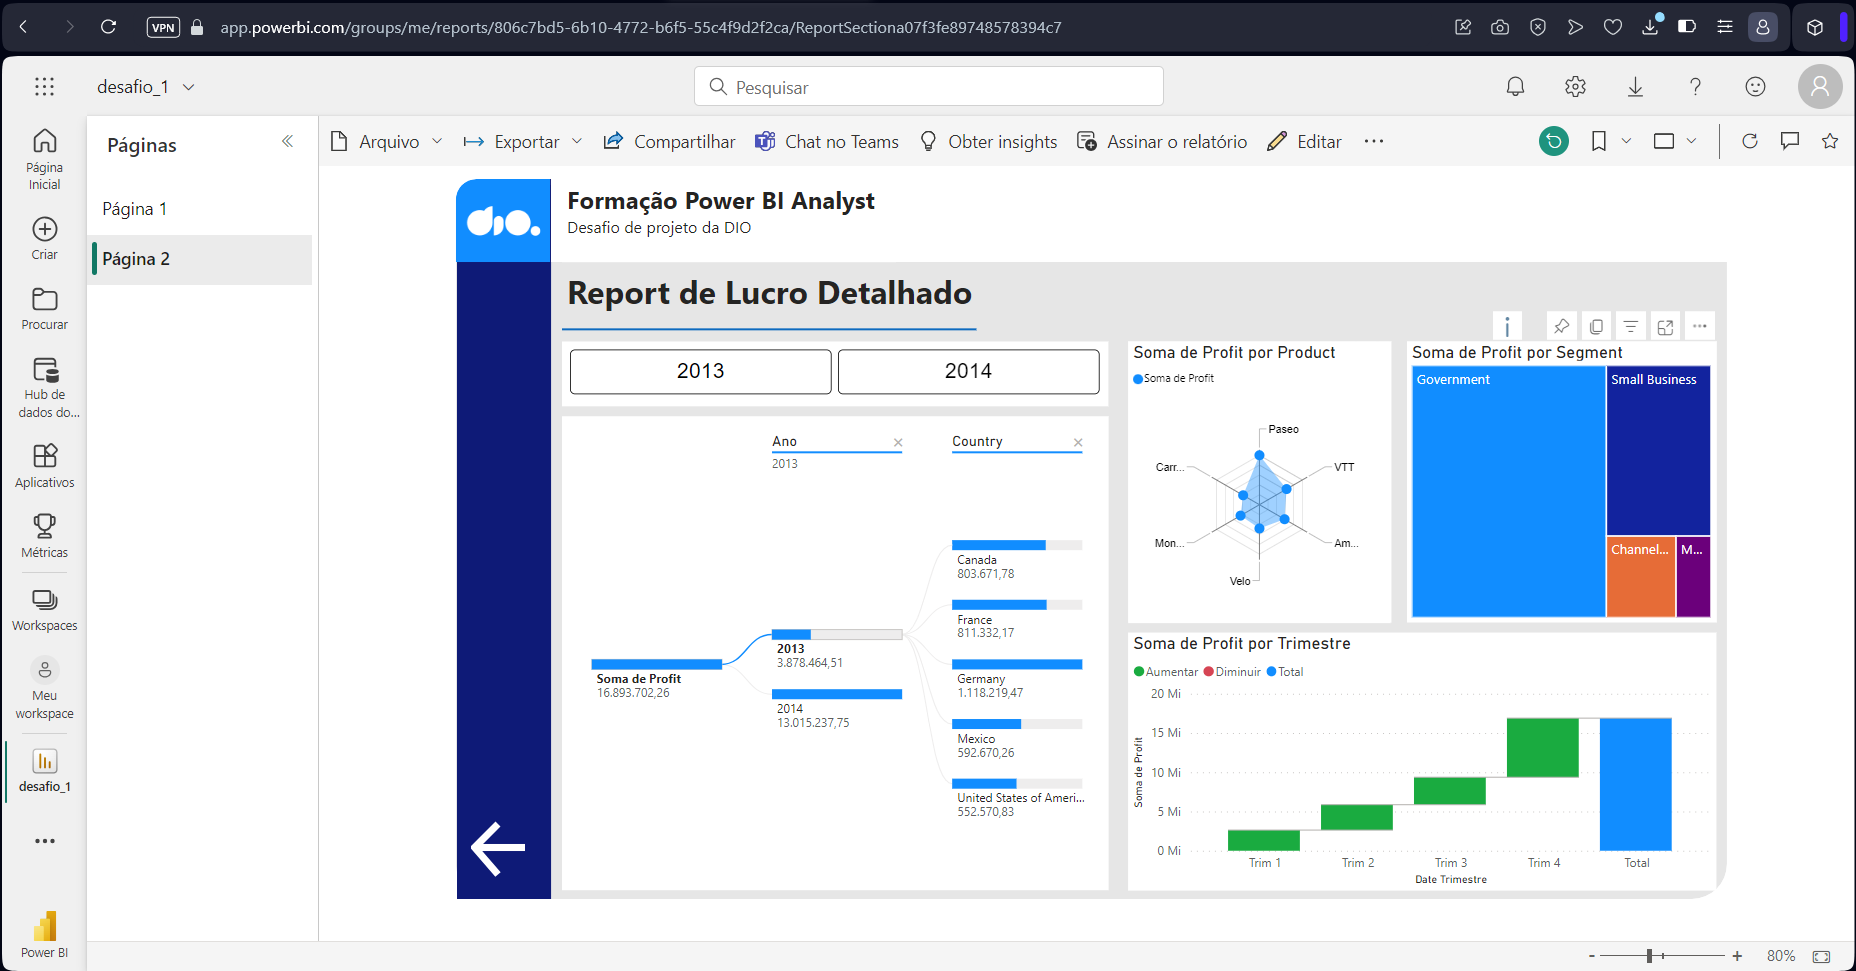

Layout of this report page (visuals, bound fields, positions):
{"tool":"powerbi","page":{"name":"Página 2","canvas":[1280,720],"ordinal":1},"visuals":[{"type":"shape","box":[8.6,0,1271.3,720],"z":0},{"type":"shape","box":[9.8,0,94.1,720],"z":1},{"type":"shape","box":[8.6,0,94.1,83.1],"z":2},{"type":"image","box":[15.5,0,83.4,83.4],"z":3},{"type":"shape","box":[103.2,0,1176.8,83.4],"z":4},{"type":"textbox","box":[114.9,0,333.7,83.1],"z":5},{"type":"textbox","box":[114.9,86.8,437.6,57.5],"z":7},{"type":"shape","box":[114.9,139.4,414.4,23.2],"z":8},{"type":"actionButton","box":[19.7,637.7,75.1,65.2],"z":25},{"type":"shape","box":[115,237.5,546.2,473.8],"z":26},{"type":"shape","box":[680.9,453.5,588,257.9],"z":27},{"type":"shape","box":[959.6,162.6,309.3,281.2],"z":28},{"type":"shape","box":[680.9,162.6,262.8,281.2],"z":29},{"type":"shape","box":[115,162.5,546.2,65],"z":30},{"type":"treemap","fields":{"Values":["Sum(financials.Profit)"],"Group":["financials.Segment"]},"box":[959.6,162.6,309.3,281.2],"z":31},{"type":"decompositionTreeVisual","fields":{"Analyze":["Sum(financials.Profit)"],"ExplainBy":["financials.Date.Variation.Hierarquia de datas.Ano","financials.Country"]},"box":[115,237.5,546.2,473.8],"z":32},{"type":"waterfallChart","fields":{"Y":["Sum(financials.Profit)"],"Category":["financials.Date.Variation.Hierarquia de datas.Trimestre"]},"box":[680.9,453.5,588,257.9],"z":33},{"type":"ChicletSlicer1448559807354","fields":{"Category":["financials.Date.Variation.Hierarquia de datas.Ano"]},"box":[115,162.5,546.2,65],"z":36},{"type":"RadarChart1446119667547","fields":{"Y":["Sum(financials.Profit)"],"Category":["financials.Product"]},"box":[681.2,162.5,262.5,281.2],"z":37}]}

Visuals, with their boxes on the page's 1280x720 design canvas (x1, y1, x2, y2). These are canvas units, not pixel positions in the 1856x971 screenshot, which may show the page scaled, cropped or inside an application window:
shape: (9,0,1280,720)
shape: (10,0,104,720)
shape: (9,0,103,83)
image: (16,0,99,83)
shape: (103,0,1280,83)
textbox: (115,0,449,83)
textbox: (115,87,552,144)
shape: (115,139,529,163)
actionButton: (20,638,95,703)
shape: (115,238,661,711)
shape: (681,454,1269,711)
shape: (960,163,1269,444)
shape: (681,163,944,444)
shape: (115,162,661,228)
treemap - Sum(financials.Profit) x financials.Segment: (960,163,1269,444)
decompositionTreeVisual - Sum(financials.Profit) x financials.Date.Variation.Hierarquia de datas.Ano: (115,238,661,711)
waterfallChart - Sum(financials.Profit) x financials.Date.Variation.Hierarquia de datas.Trimestre: (681,454,1269,711)
ChicletSlicer1448559807354 - financials.Date.Variation.Hierarquia de datas.Ano: (115,162,661,228)
RadarChart1446119667547 - Sum(financials.Profit) x financials.Product: (681,162,944,444)
